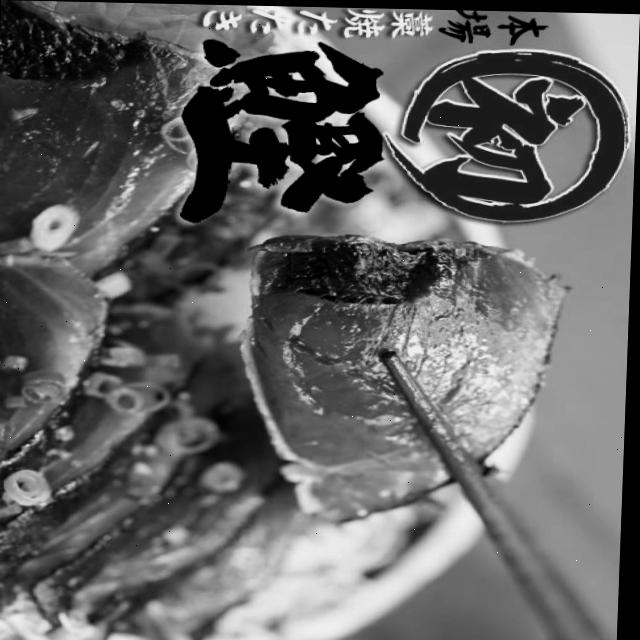熟制海鲜: (0, 0, 599, 640)
